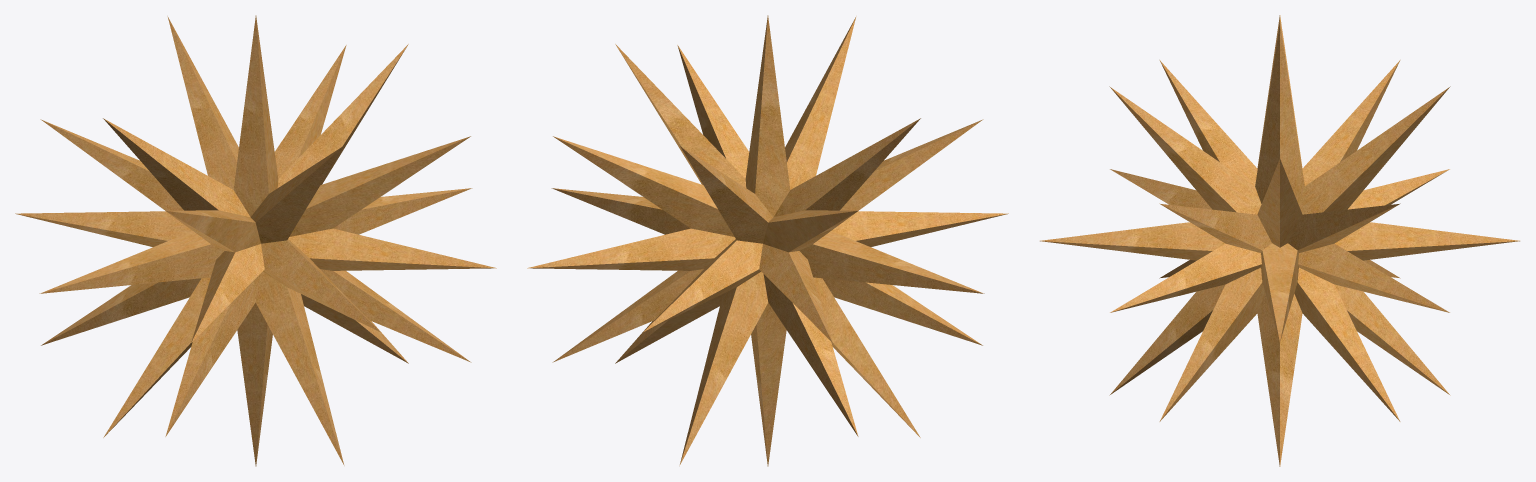
File: Star.obj
The picture shows the model from 3 angles, left to right: view 1: azimuth 30°, elevation 25°; view 2: azimuth 150°, elevation 25°; view 3: azimuth 270°, elevation 25°; orthographic projection. The views are drawn at different scales.
Parts seen in each view (by area): view 1: objStar; view 2: objStar; view 3: objStar.
Part boxes in pixels (x1,y1,x2,y2): objStar: (15,15,496,466); objStar: (527,15,1008,466); objStar: (1040,15,1519,466).
Bounding box in the file's own units: 3.78 × 3.78 × 3.78.
Materials: 1 (1 with a texture image).
